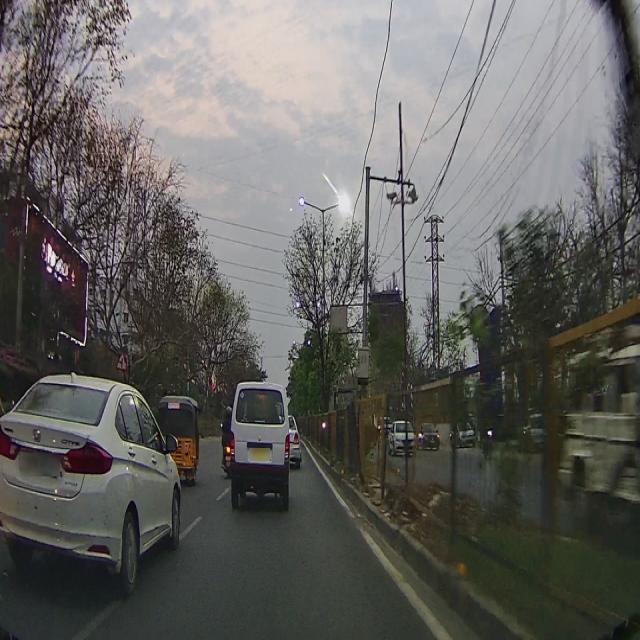side-road-left: (115, 348, 129, 373)
